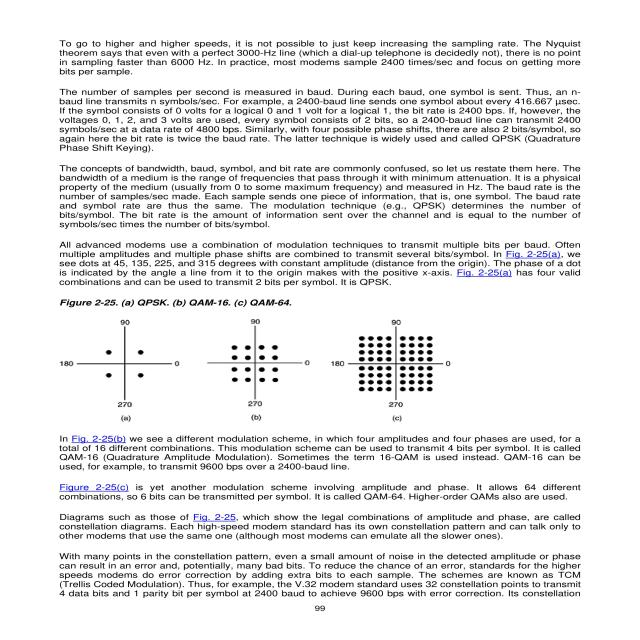diagram: (53, 299, 467, 421)
